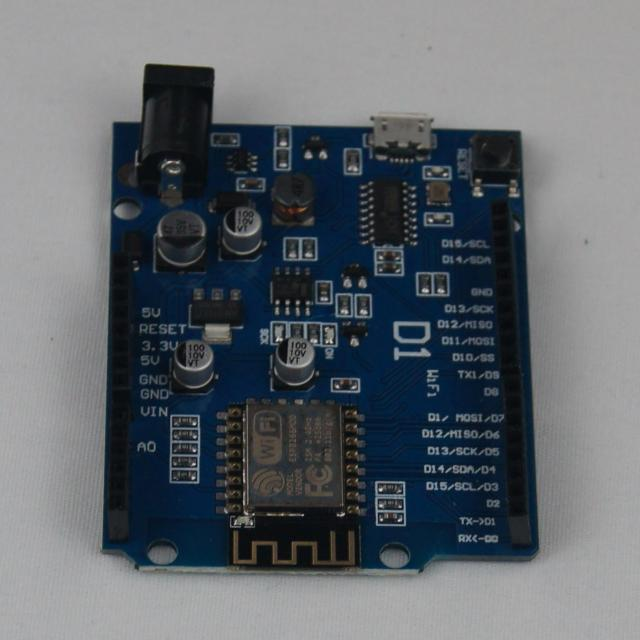Arduino Uno WiFi Shield: (104, 65, 539, 573)
